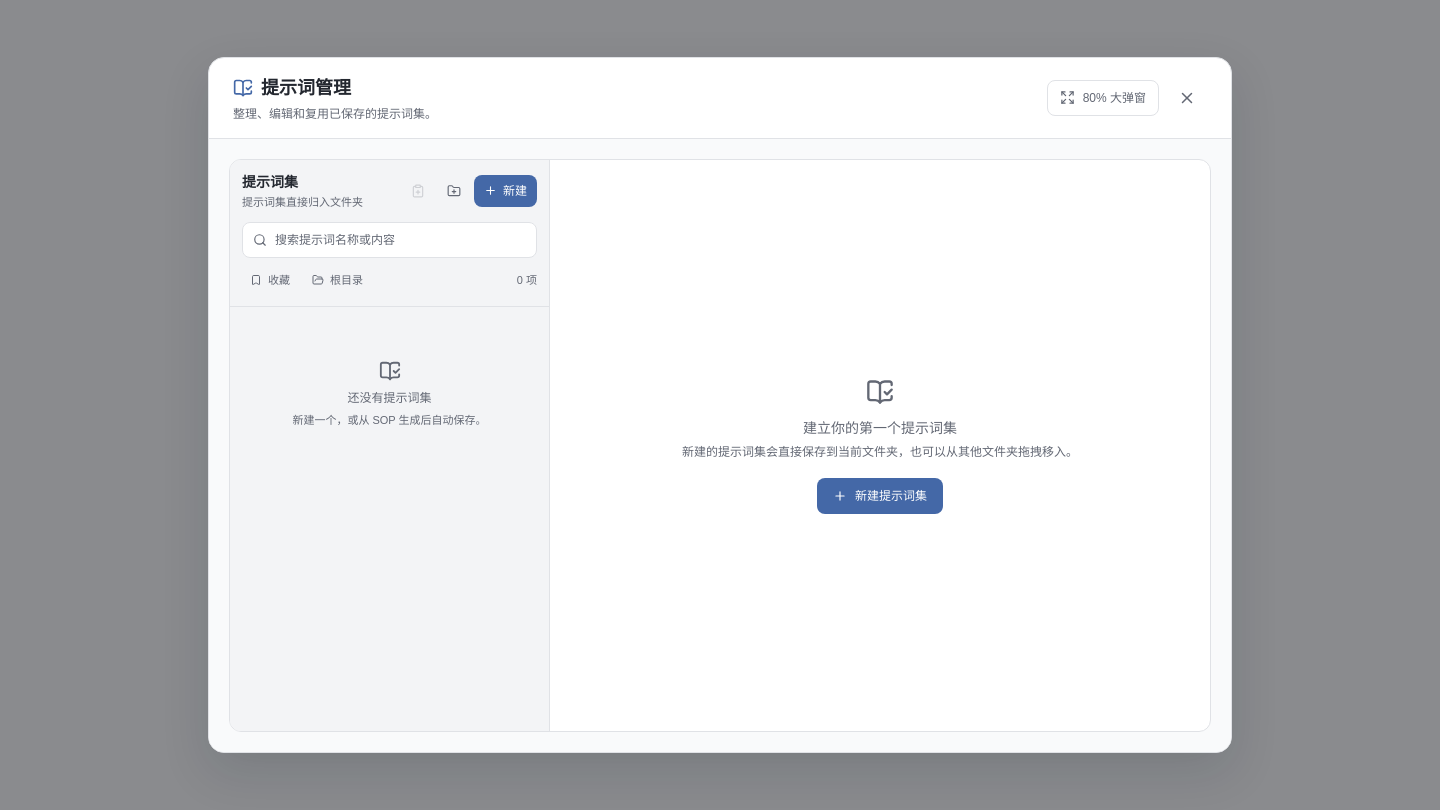
GallerySopBatchModal background generation › creates and persists an independent prompt collection without an SOP
This screenshot has width=1440, height=810.
Click the button "新建".
click(506, 191)  # box x1=474 y1=175 x2=537 y2=207
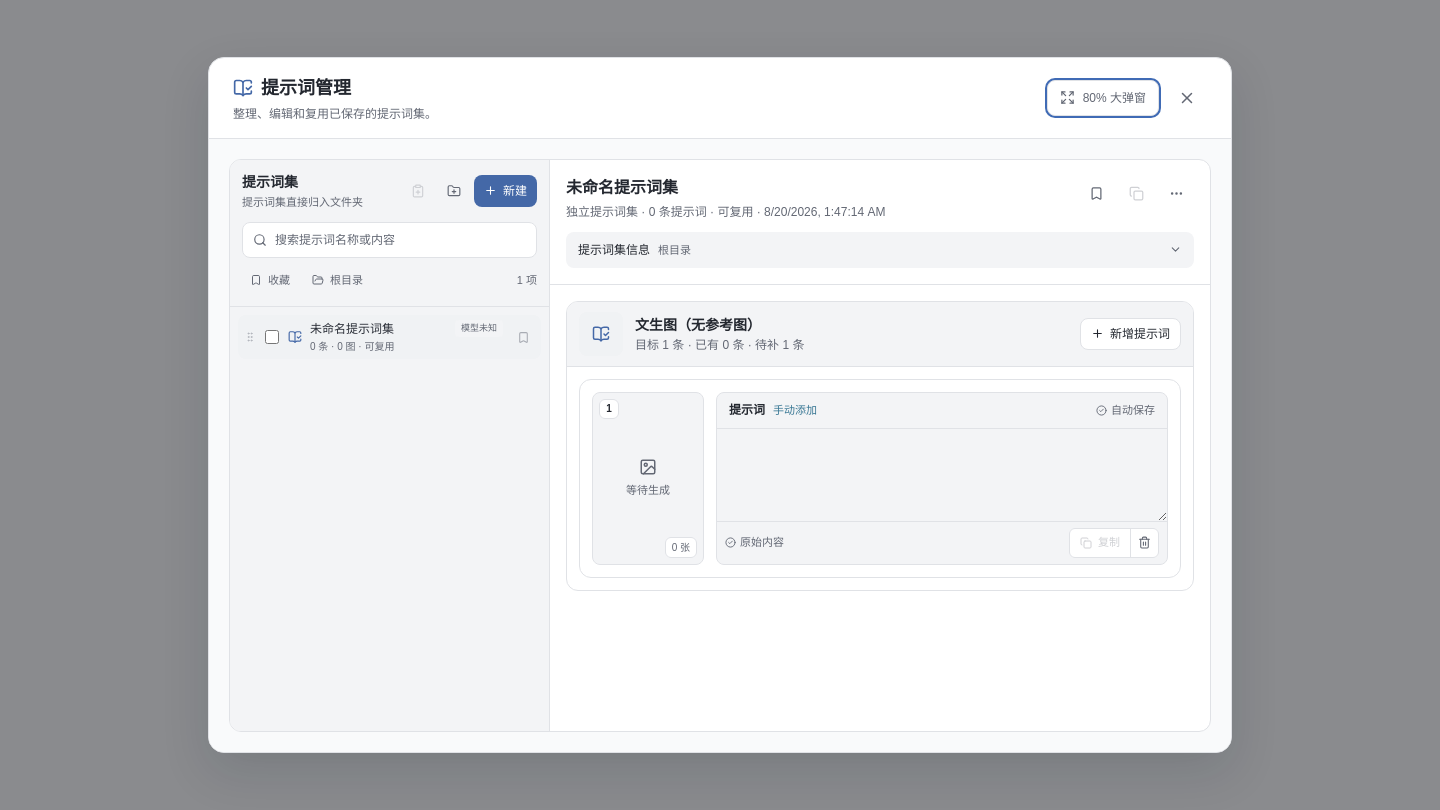
Expected: the field named "提示词集名称" holds "未命名提示词集", x1=566 y1=176 x2=1066 y2=200
Expected: the text box named "第 1 条提示词" is shown, x1=717 y1=429 x2=1167 y2=521
